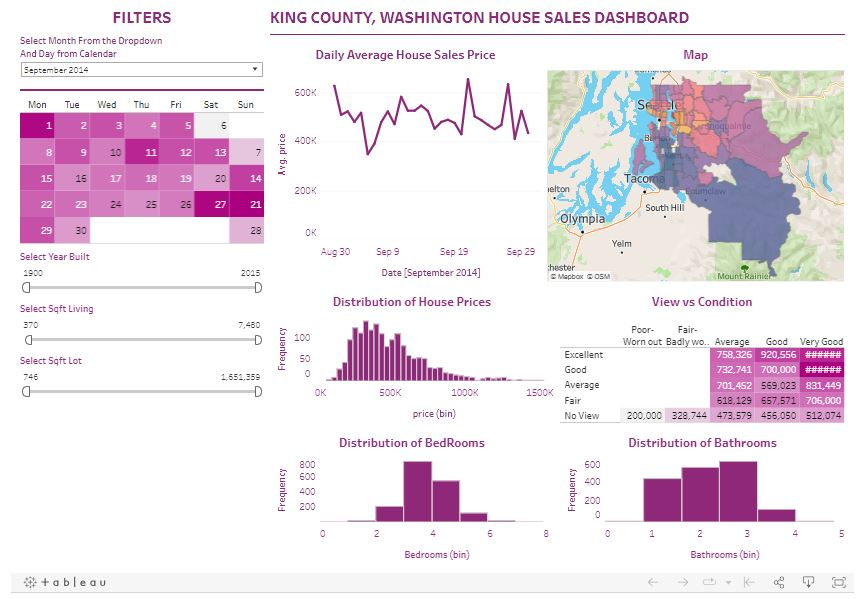

What the dashboard file says about the page in this screenshot:
{"tool":"tableau","page":{"name":"KING COUNTY HOUSE SALES","canvas":[1000,1000],"units":"permille","ordinal":0},"visuals":[{"type":"text","box":[7.1,10.4,296.2,48.2]},{"type":"text","box":[303.4,10.4,689.5,48.2]},{"type":"filter","title":"Calendar","param":"[federated.1bqf7zl0db8h5410o24oj1us8oq0].[my:date:ok]","box":[7.1,58.6,296.2,89.9]},{"type":"blank","box":[303.4,58.6,689.5,13]},{"type":"worksheet","title":"Daily Average House Sales Price","mark":"Automatic","rows":["price"],"cols":["date"],"box":[303.4,71.6,328.7,428.4]},{"type":"worksheet","title":"Map","mark":"Automatic","box":[632.1,71.6,360.8,428.4]},{"type":"blank","box":[7.1,148.5,296.2,13]},{"type":"worksheet","title":"Calendar","mark":"Square","rows":["date"],"cols":["date"],"box":[7.1,161.5,296.2,265.6]},{"type":"filter","title":"Calendar","param":"[federated.1bqf7zl0db8h5410o24oj1us8oq0].[none:yr_built:qk]","box":[7.1,427.1,296.2,66.4]},{"type":"filter","title":"Calendar","param":"[federated.1bqf7zl0db8h5410o24oj1us8oq0].[none:sqft_living:qk]","box":[7.1,493.5,296.2,89.9]},{"type":"worksheet","title":"Distribution of House Prices","mark":"Automatic","rows":["price"],"cols":["price (bin)"],"box":[303.4,500,344.8,244.8]},{"type":"worksheet","title":"Heat Map","mark":"Square","rows":["view"],"cols":["condition"],"box":[648.1,500,344.8,244.8]},{"type":"filter","title":"Calendar","param":"[federated.1bqf7zl0db8h5410o24oj1us8oq0].[none:sqft_lot:qk]","box":[7.1,583.4,296.2,66.4]},{"type":"worksheet","title":"Distribution of BedRooms","mark":"Automatic","rows":["bedrooms"],"cols":["Bedrooms (bin)"],"box":[303.4,744.8,344.8,244.8]},{"type":"worksheet","title":"Distribution of Bathrooms","mark":"Automatic","rows":["bathrooms"],"cols":["Bathrooms (bin)"],"box":[648.1,744.8,344.8,244.8]}]}

Visuals, with their boxes on the dashboard's canvas, which has no fixed pixel size, in thousandths of its width and height (x1, y1, x2, y2). These are canvas units, not pixel positions in the 862x599 screenshot, which may show the page scaled, cropped or inside an application window:
text: crop(7, 10, 303, 59)
text: crop(303, 10, 993, 59)
"Calendar" filter: crop(7, 59, 303, 148)
blank: crop(303, 59, 993, 72)
"Daily Average House Sales Price" worksheet: crop(303, 72, 632, 500)
"Map" worksheet: crop(632, 72, 993, 500)
blank: crop(7, 148, 303, 162)
"Calendar" worksheet (Square marks): crop(7, 162, 303, 427)
"Calendar" filter: crop(7, 427, 303, 494)
"Calendar" filter: crop(7, 494, 303, 583)
"Distribution of House Prices" worksheet: crop(303, 500, 648, 745)
"Heat Map" worksheet (Square marks): crop(648, 500, 993, 745)
"Calendar" filter: crop(7, 583, 303, 650)
"Distribution of BedRooms" worksheet: crop(303, 745, 648, 990)
"Distribution of Bathrooms" worksheet: crop(648, 745, 993, 990)
